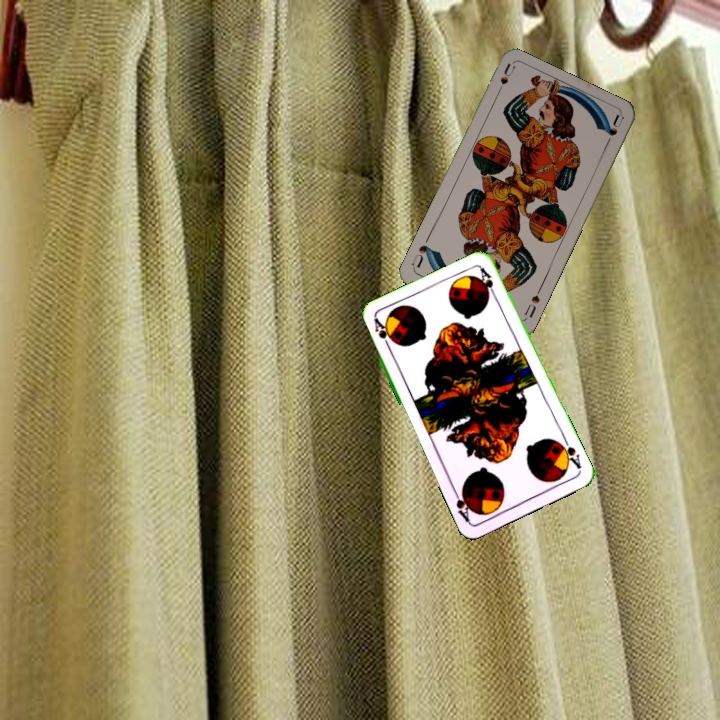SA: (554, 434, 584, 472), (370, 314, 395, 353)
SU: (491, 61, 518, 100), (520, 284, 543, 323)
